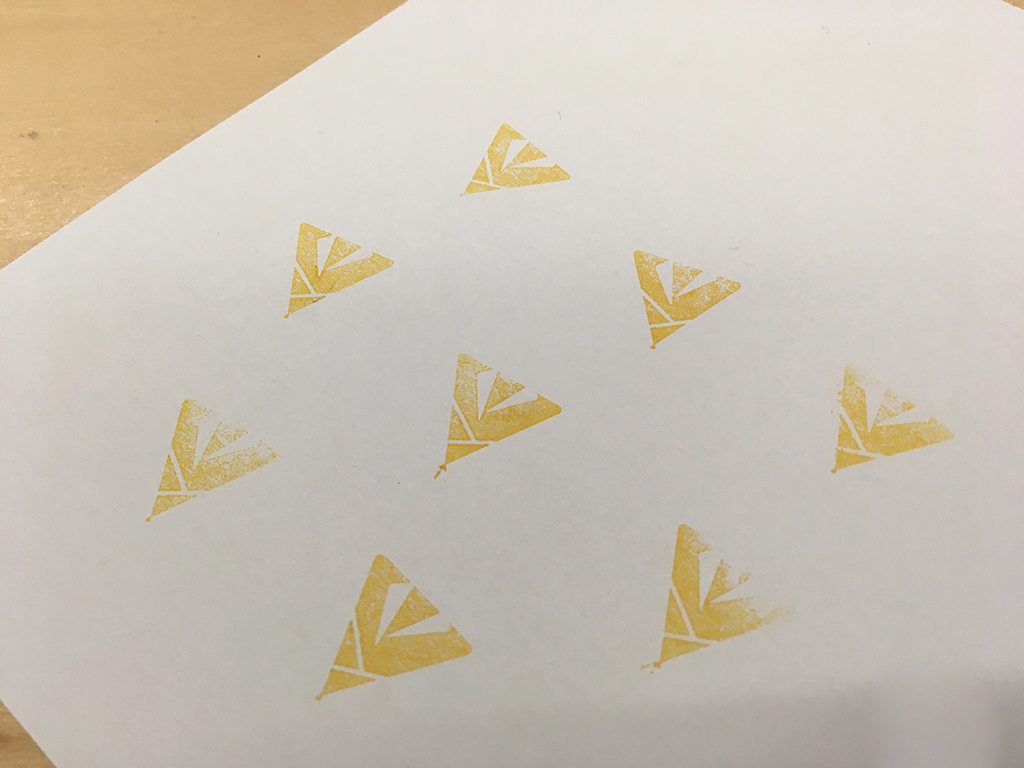tent: (300, 549, 479, 709), (638, 514, 800, 688), (135, 392, 296, 537), (423, 349, 571, 482), (826, 351, 959, 480), (270, 215, 412, 324), (628, 239, 745, 355), (457, 116, 576, 208)
